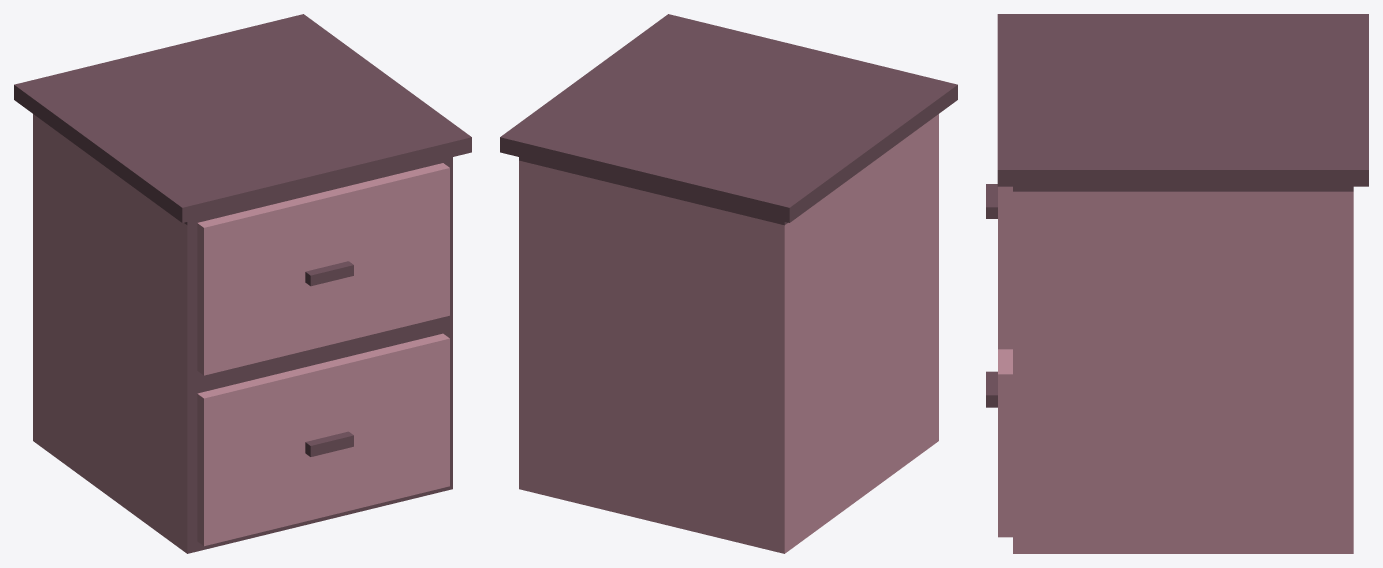
3 views of the same model, side by side, from view 1: azimuth 30°, elevation 25°; view 2: azimuth 150°, elevation 25°; view 3: azimuth 270°, elevation 25° (orthographic). The views are drawn at different scales.
Parts seen in each view (by area): view 1: Cube; view 2: Cube; view 3: Cube.
Boxes of the visible parts, x1=… form: Cube: x1=14, y1=14, x2=471, y2=553; Cube: x1=500, y1=14, x2=957, y2=553; Cube: x1=986, y1=14, x2=1368, y2=553.
Size of the model in its own units: 488 by 571 by 507.
